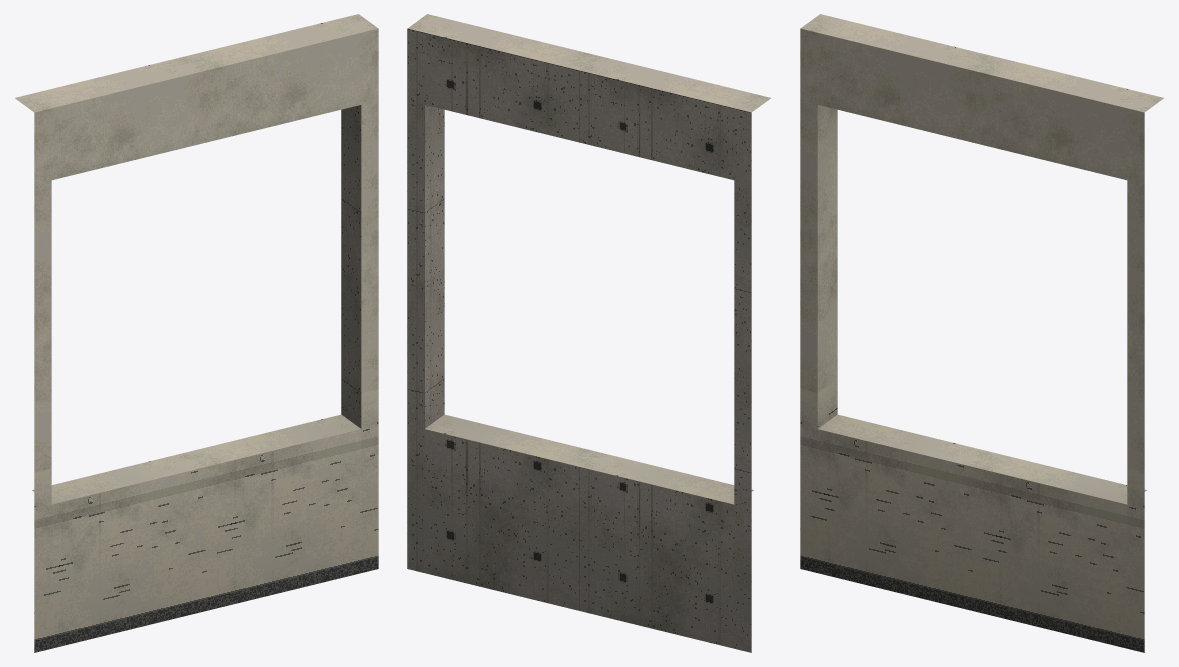
File: wall_window.glb
The picture shows the model from 3 angles, left to right: view 1: azimuth 30°, elevation 25°; view 2: azimuth 150°, elevation 25°; view 3: azimuth 330°, elevation 25°; orthographic projection.
Parts seen in each view (by area): view 1: wall_window; view 2: wall_window; view 3: wall_window.
Boxes of the visible parts, bbox=[...] form: wall_window: bbox=[15, 14, 378, 652]; wall_window: bbox=[407, 14, 770, 652]; wall_window: bbox=[800, 14, 1163, 652].
Bounding box in the file's own units: 2 × 3 × 0.2.
